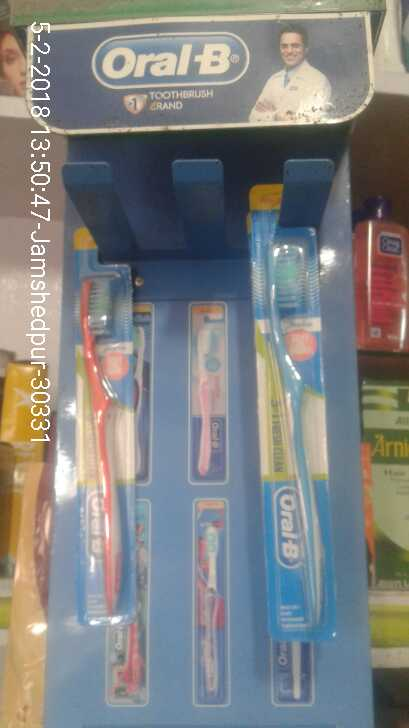oralb: (252, 247, 336, 624), (69, 273, 130, 622)
